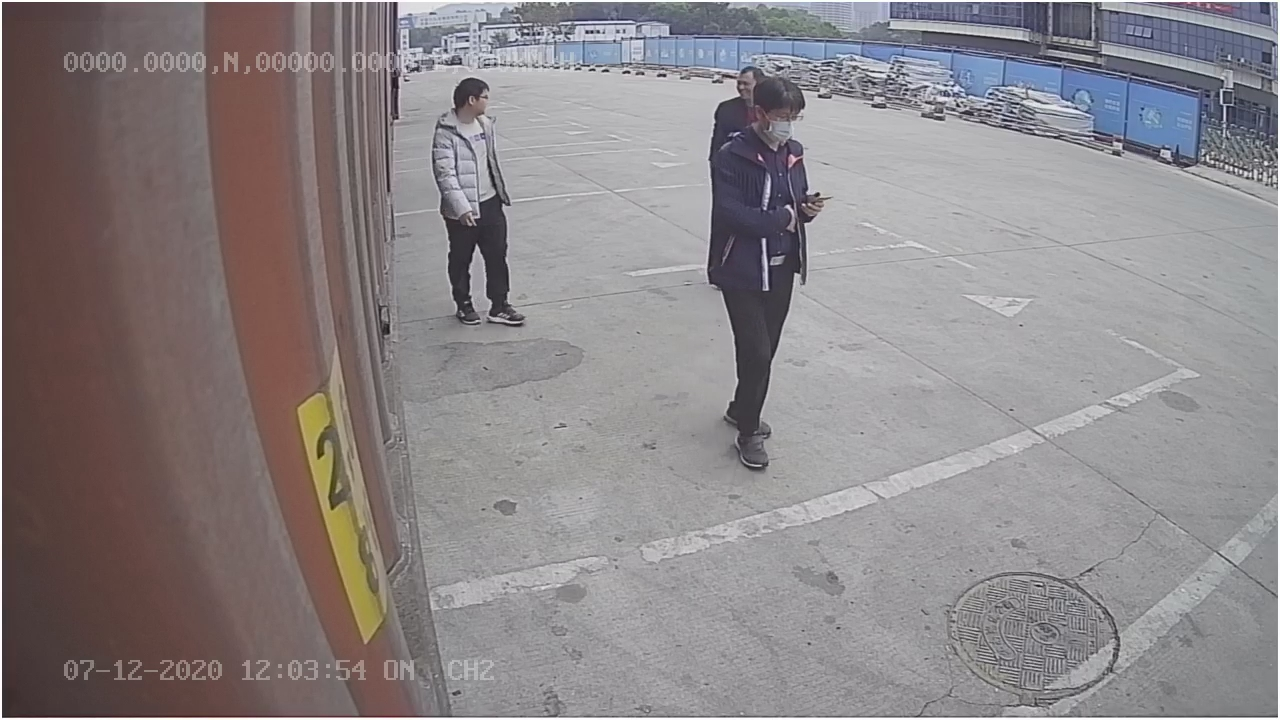person: (430, 78, 531, 329)
